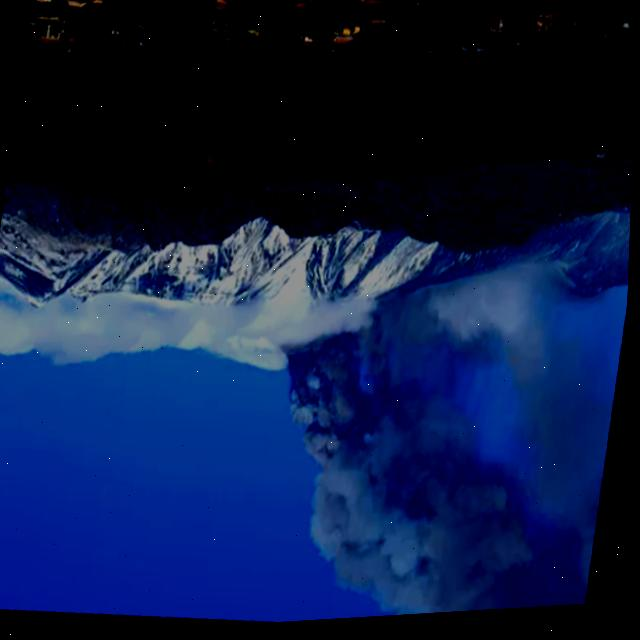Smoke: (256, 245, 632, 627)
